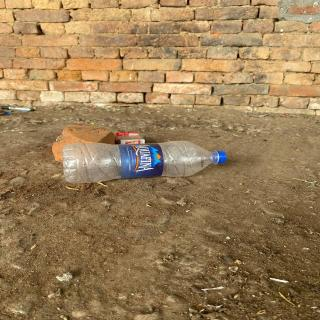Plastic-bottle: (60, 139, 230, 186)
